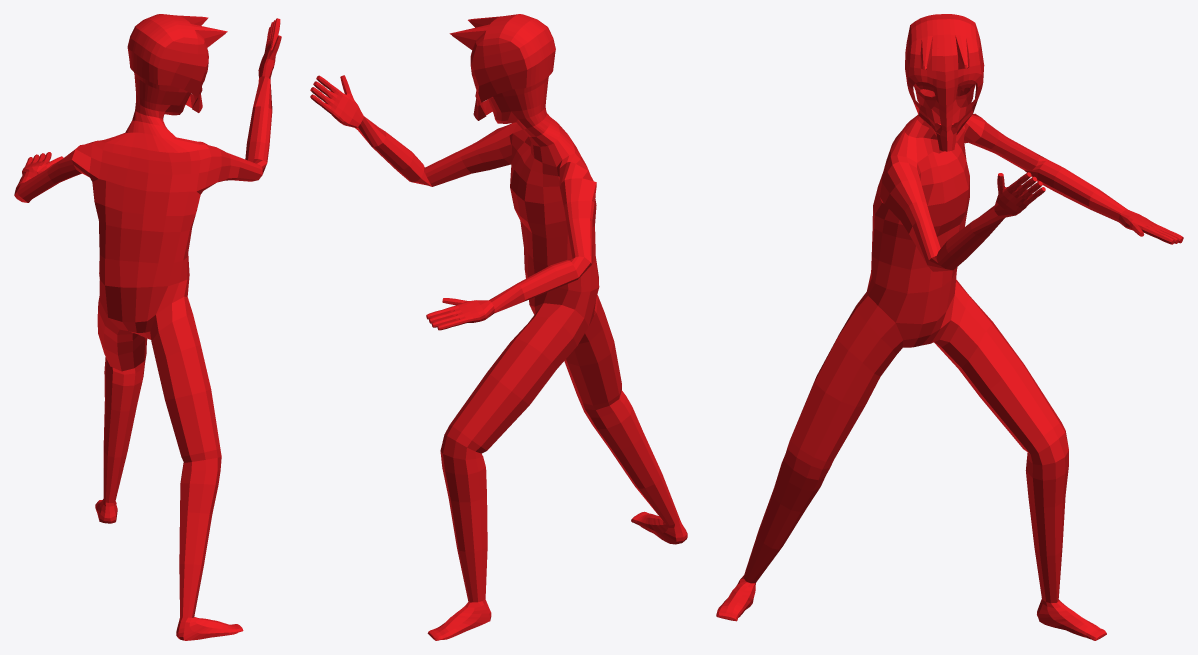
Rendered from activaAlarma_000240.obj.
3 renders of one model, left to right at view 1: azimuth 30°, elevation 25°; view 2: azimuth 150°, elevation 25°; view 3: azimuth 270°, elevation 25°, orthographic. The views are drawn at different scales.
Visible parts, largest first — view 1: Plane.002_Plane.001; view 2: Plane.002_Plane.001; view 3: Plane.002_Plane.001.
Part boxes in pixels (x1,y1,x2,y2): Plane.002_Plane.001: (14, 14, 281, 640); Plane.002_Plane.001: (310, 14, 687, 640); Plane.002_Plane.001: (716, 14, 1183, 640).
Size of the model in its own units: 3.38 by 6.68 by 4.56.
